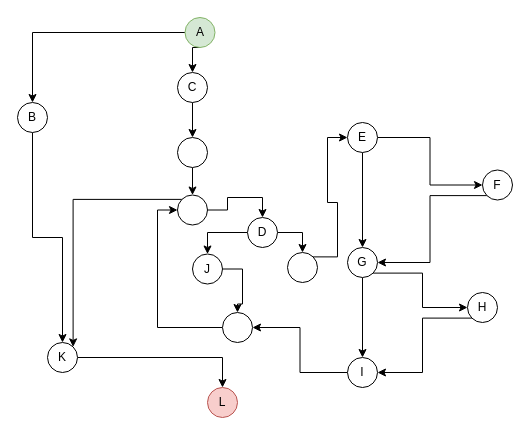
Some shapes in this 530 by 435 pixel diagram are drawn without their labels. Here are the shapes that lost their labels. From the top down, the centre of each, then its label:
At (x=192, y=152): "C1".
At (x=192, y=209): "C2".
At (x=302, y=267): "D1".
At (x=237, y=327): "C3".
